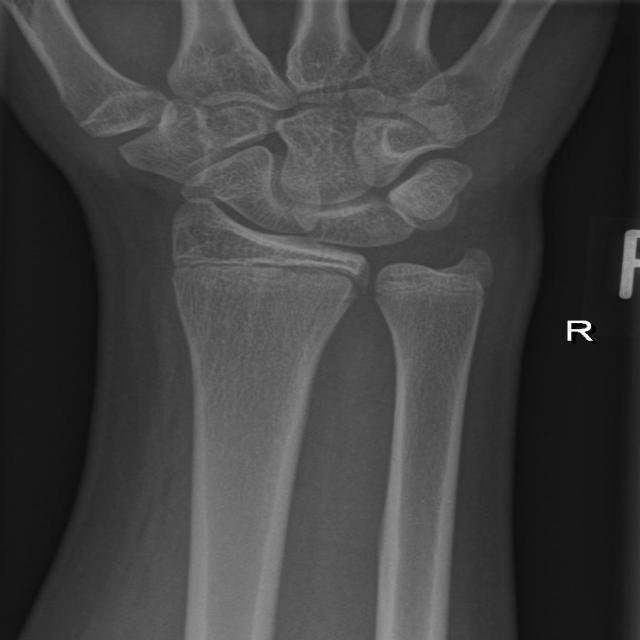fracture: (153, 235, 379, 308), (352, 264, 516, 312)
